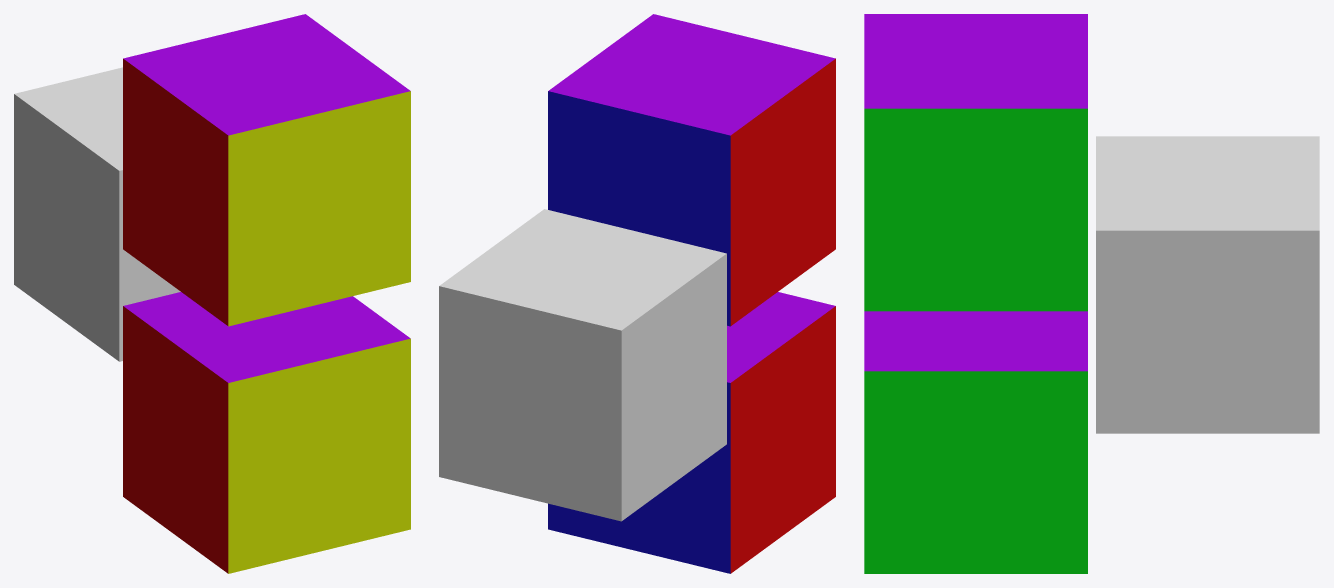
3 views of the same model, side by side, from view 1: azimuth 30°, elevation 25°; view 2: azimuth 150°, elevation 25°; view 3: azimuth 270°, elevation 25° (orthographic). The views are drawn at different scales.
Visible parts, largest first — view 1: Cube.002, Cube.001, Cube; view 2: Cube, Cube.002, Cube.001; view 3: Cube, Cube.002, Cube.001.
Part boxes in pixels (bbox=[...]): Cube.002: bbox=[123, 14, 410, 326]; Cube.001: bbox=[123, 292, 410, 573]; Cube: bbox=[14, 67, 180, 361]; Cube: bbox=[439, 209, 726, 521]; Cube.002: bbox=[548, 14, 835, 326]; Cube.001: bbox=[548, 292, 835, 573]; Cube: bbox=[1096, 136, 1319, 433]; Cube.002: bbox=[864, 14, 1087, 311]; Cube.001: bbox=[864, 311, 1087, 573].
Size of the model in its own units: 2 by 4.59 by 4.07.
